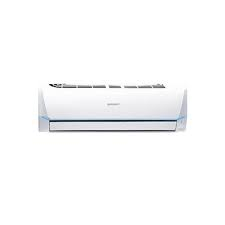ac: (36, 78, 199, 139)
